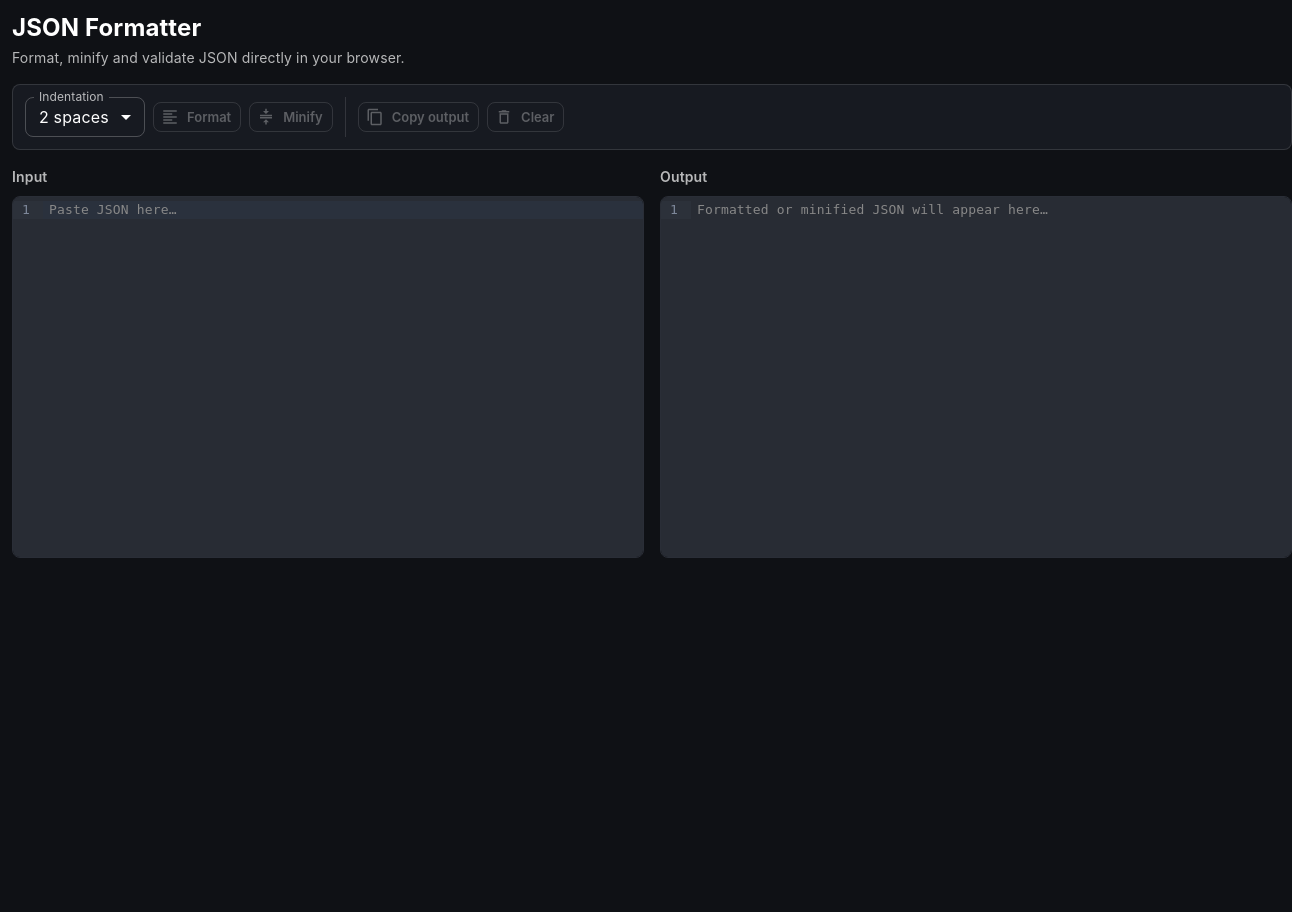
JsonFormatterPage › shows an error message for invalid JSON
Click the field labelled "Paste JSON here…" at (343, 210), box top-left (43, 197), bottom-right (643, 223)
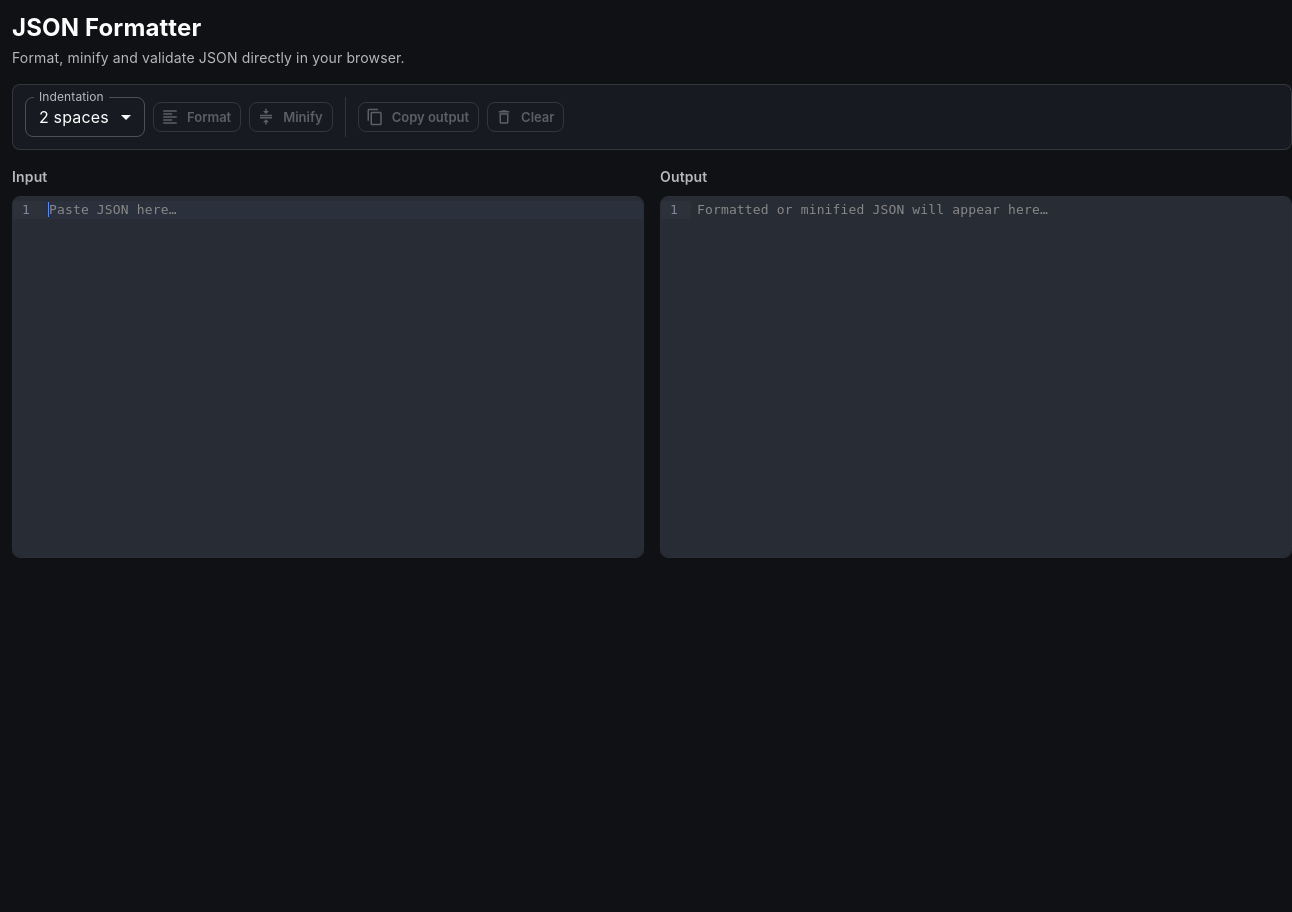
Press Invalid
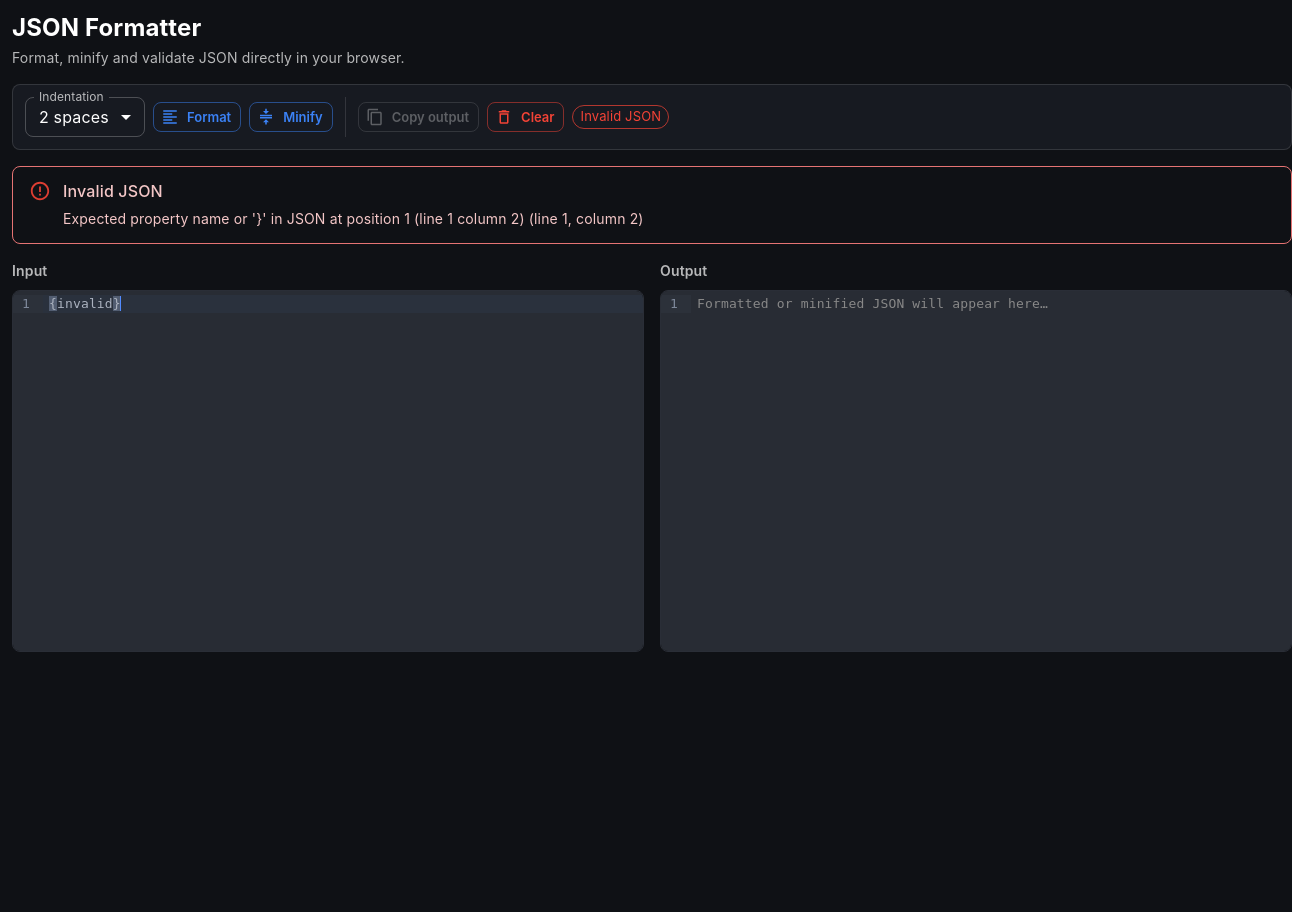
Result: the text "Invalid JSON" in the row of "spaces" is shown at top-left (580, 108), bottom-right (661, 124)
Result: the message is shown at top-left (12, 166), bottom-right (1291, 244)
